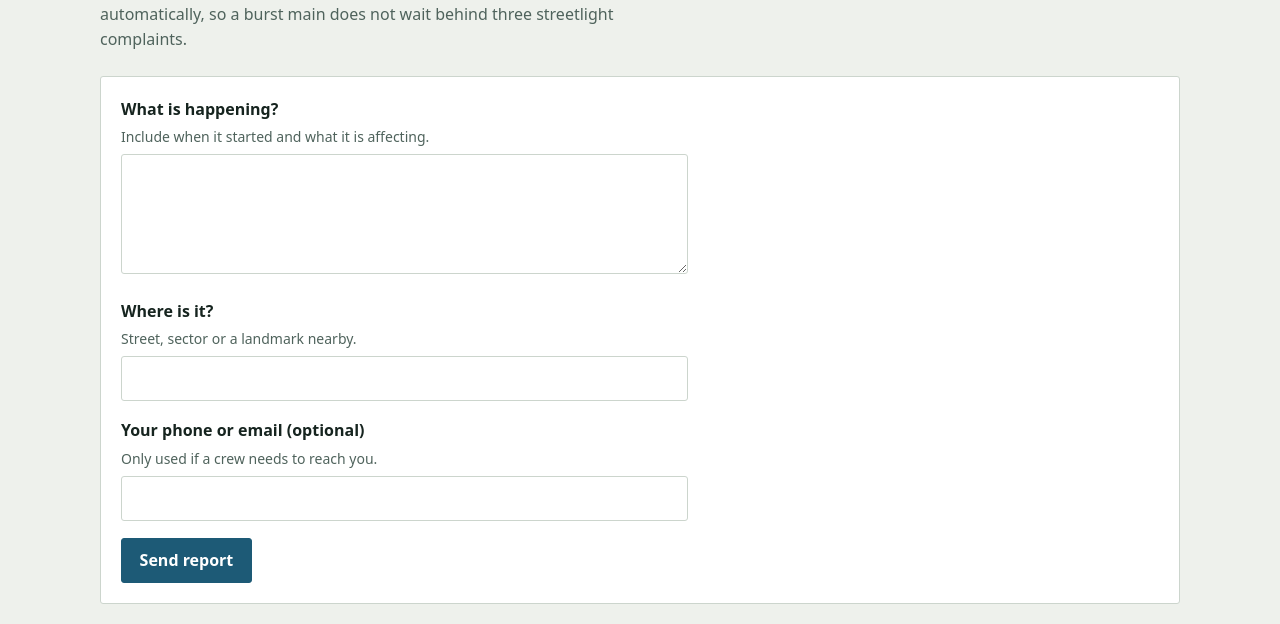
Test: Report a problem › explains a fallback triage instead of hiding it
Type "Sewerage overflowing outside the mosque gate for three days." into the text box labelled "What is happening" at point(405, 214), box [121, 154, 688, 274]
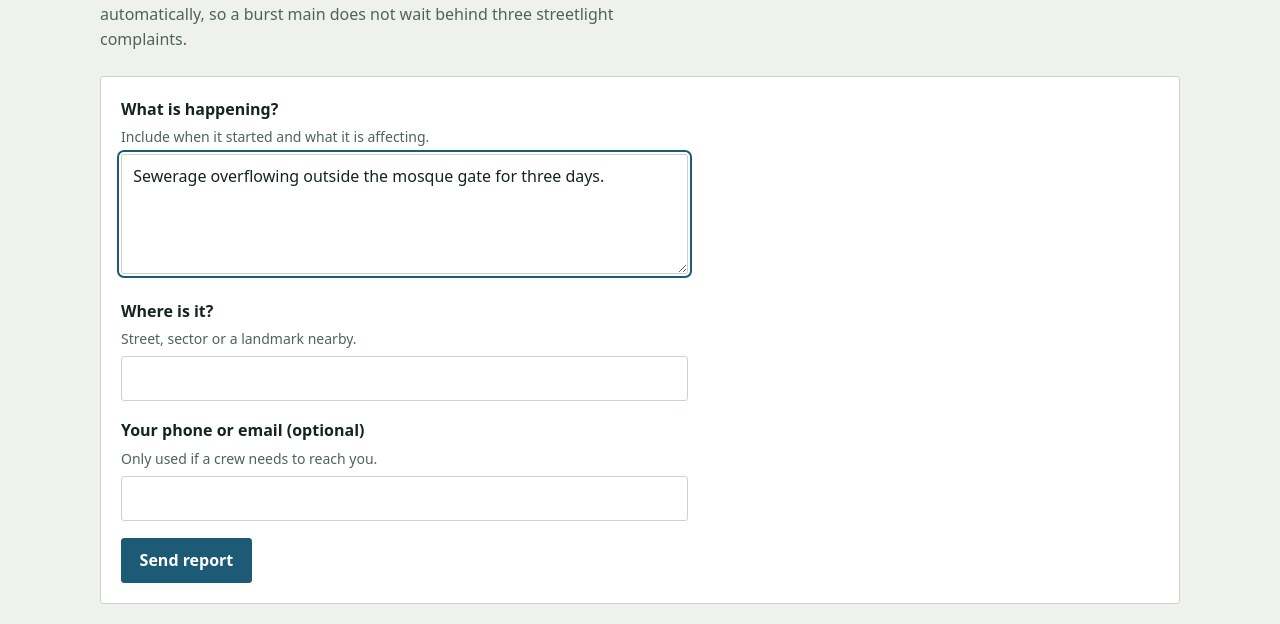
Type "Street 4, I-8/2" into the field labelled "Where is it? Street, sector or a landmark nearby." at point(405, 379), box [121, 356, 688, 401]
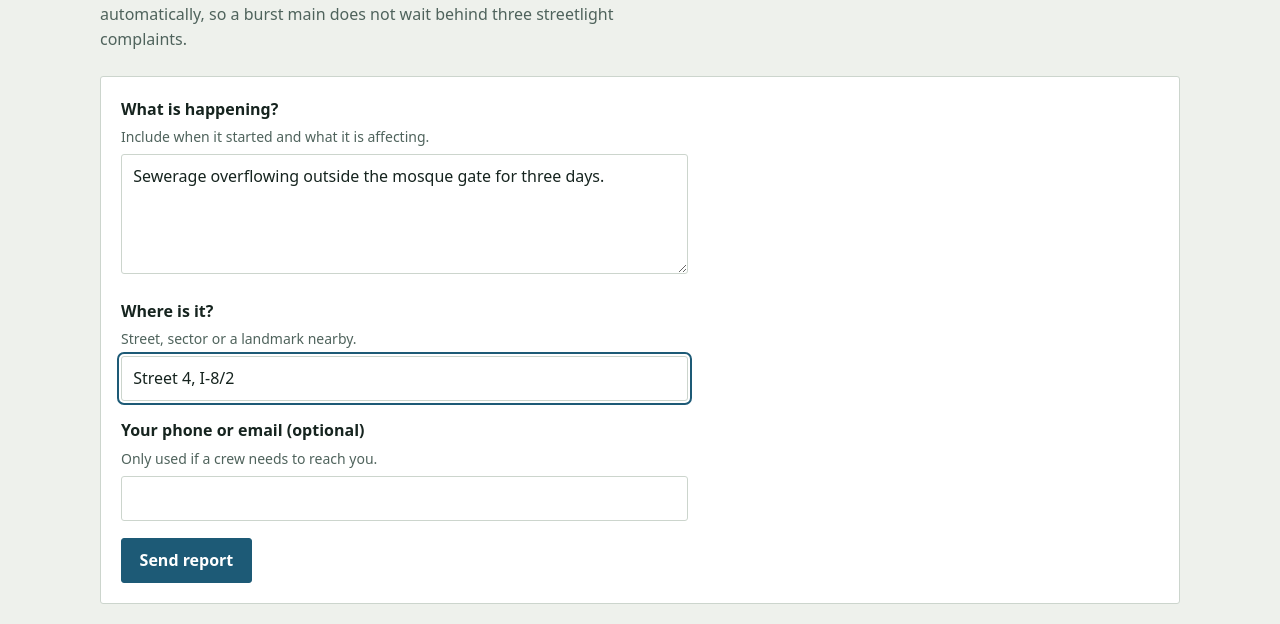
Click the button "Send report" at point(186, 560), box [121, 538, 252, 582]
(page scrolled)
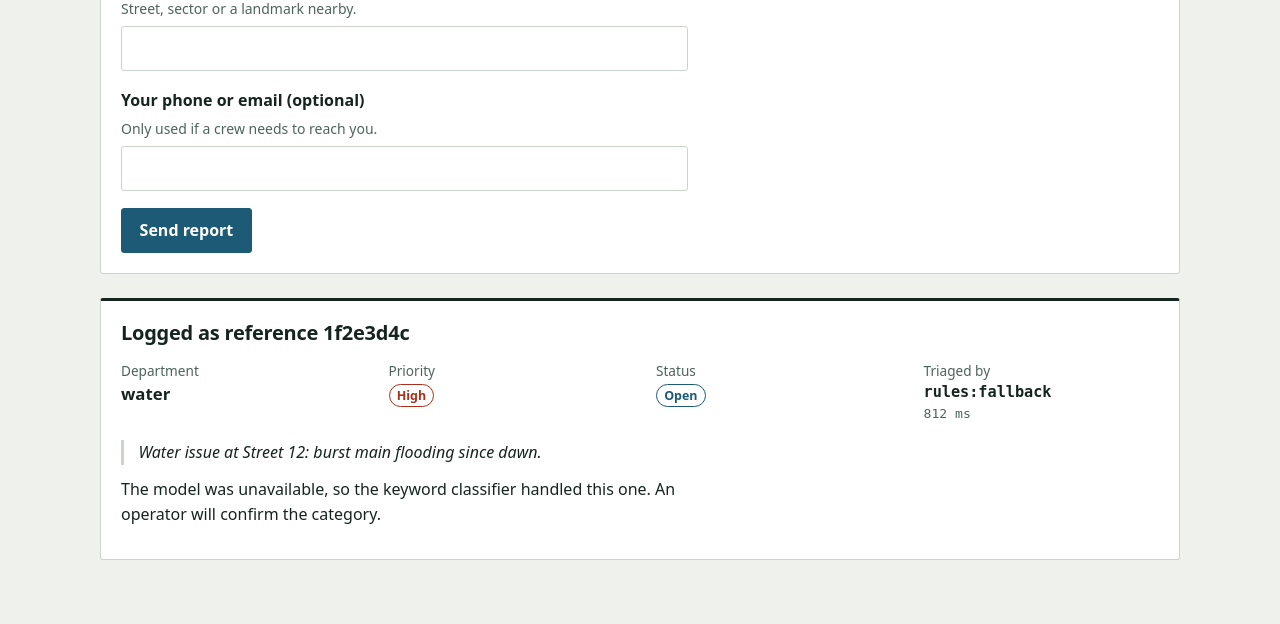
expect the text "model was unavailable" is shown: met, box [121, 478, 675, 525]
